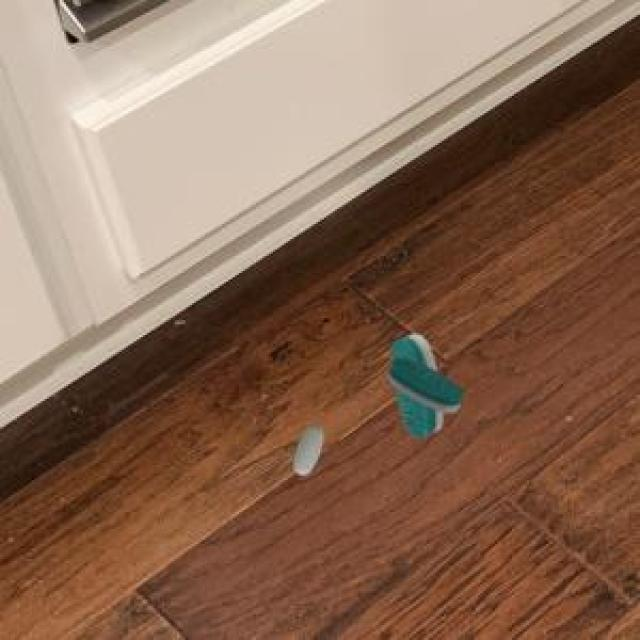Neozep: (373, 324, 470, 447), (286, 418, 331, 484)
